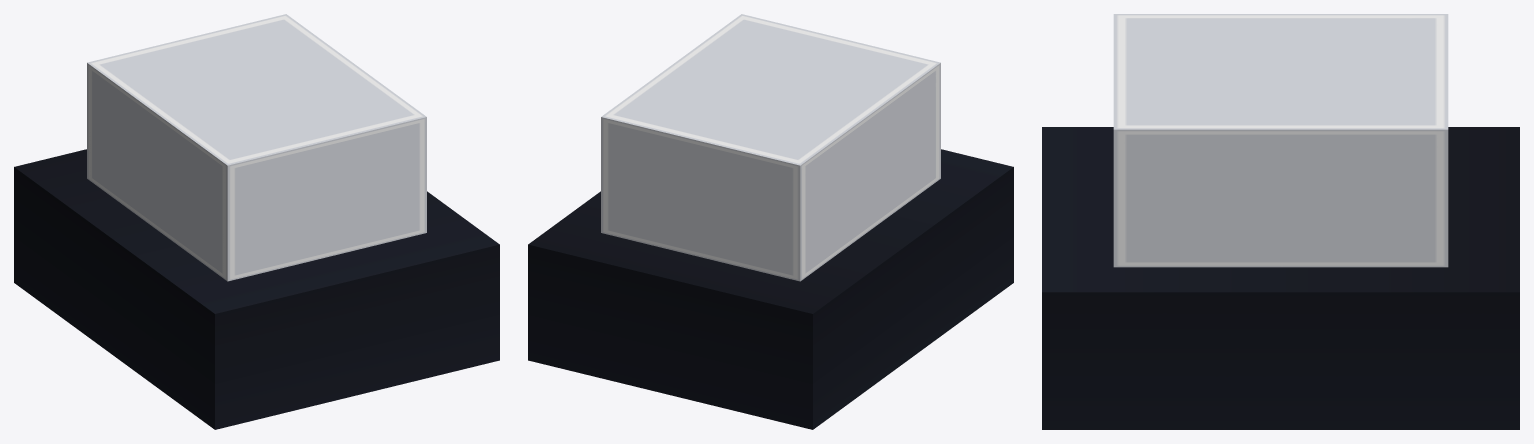
Rendered from PRP_Piano.glb.
The picture shows the model from 3 angles, left to right: view 1: azimuth 30°, elevation 25°; view 2: azimuth 150°, elevation 25°; view 3: azimuth 270°, elevation 25°; orthographic projection. The views are drawn at different scales.
Visible parts, largest first — view 1: PRP_Piano; view 2: PRP_Piano; view 3: PRP_Piano.
Boxes of the visible parts, x1,y1,x2,y2 form: PRP_Piano: (14, 14, 499, 429); PRP_Piano: (528, 14, 1013, 429); PRP_Piano: (1042, 14, 1519, 429).
Bounding box in the file's own units: 1.8 × 1.4 × 2.2.
Materials: 1 (1 with a texture image).
